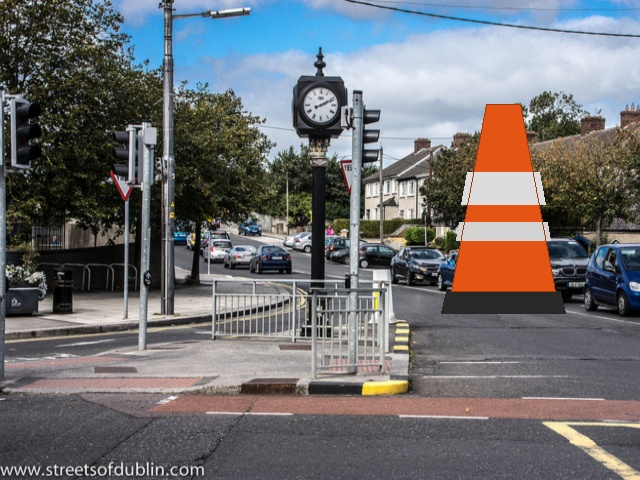traffic-cone: (441, 104, 565, 313)
